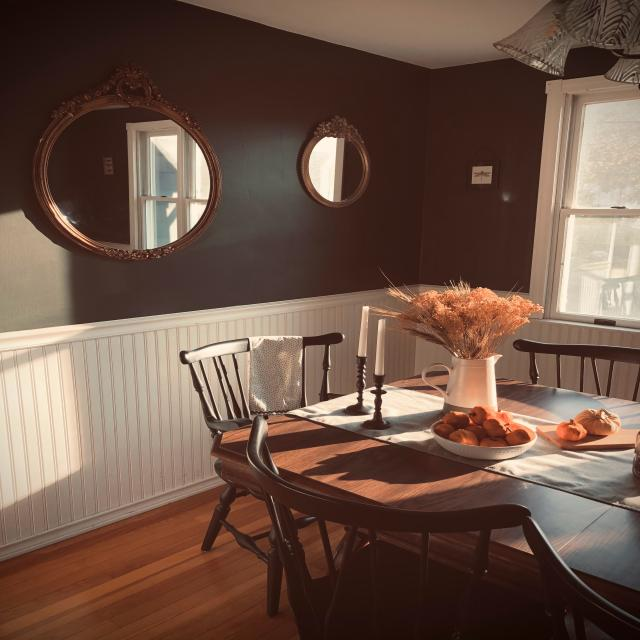Glass: (39, 102, 213, 247), (309, 134, 367, 203)
